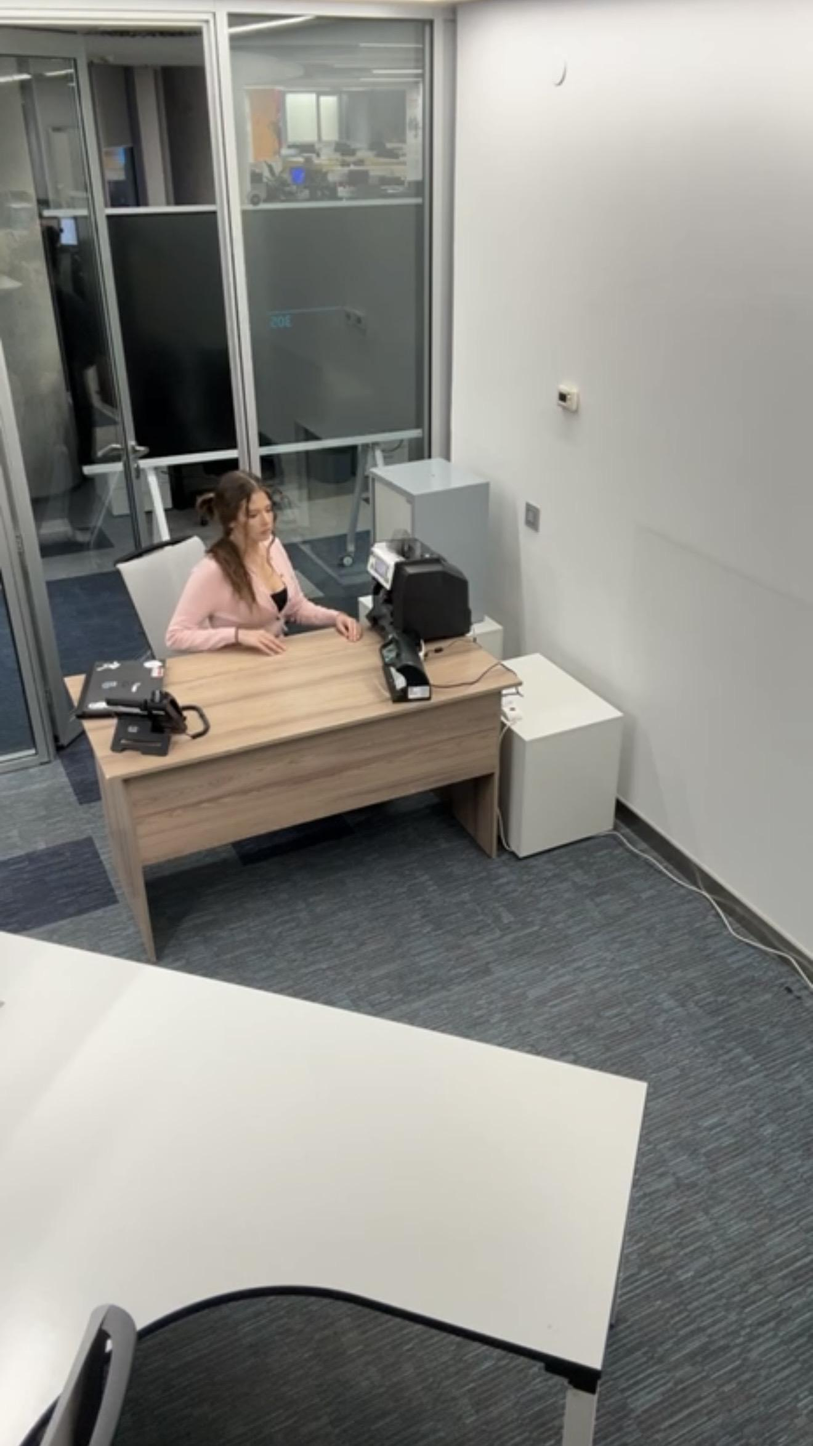counter: (365, 532, 472, 637)
door_open: (10, 16, 279, 563)
uv_lamp: (378, 641, 425, 713)
